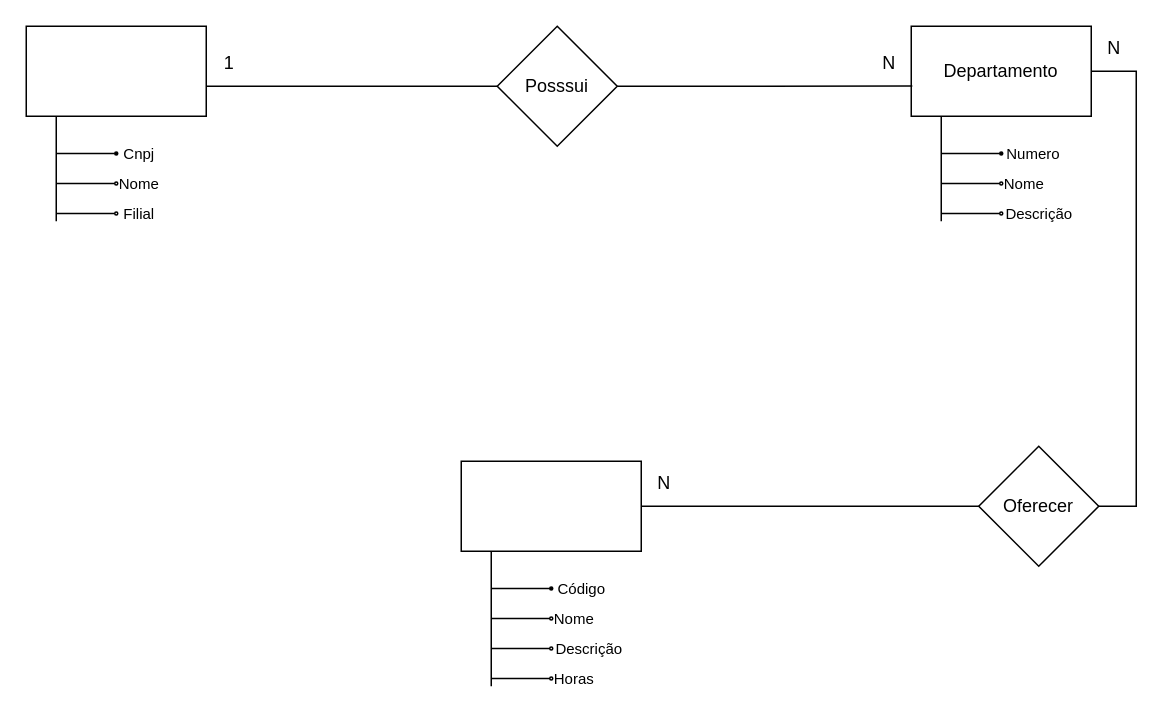
Image size: 1164x728. Some labels were removed from this diagram. The shapes that lost their labels are listed below. From the top down, each one's box as (x1, y1, x2, y2) in pixels, then its label:
(25, 25, 206, 116): Empresa
(460, 460, 641, 551): Curso
